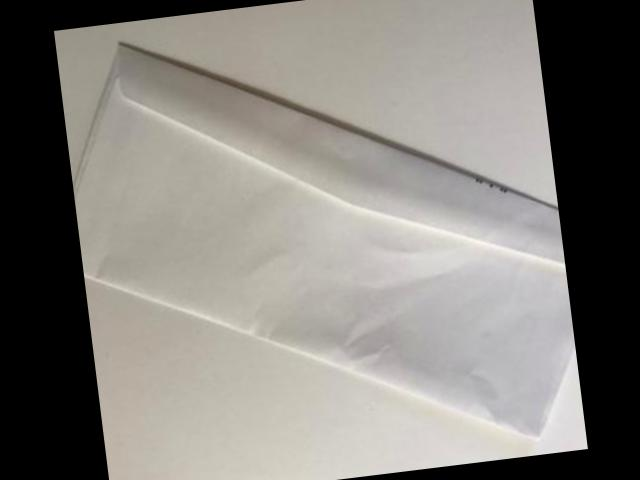cardboard paper: (72, 46, 575, 438)
